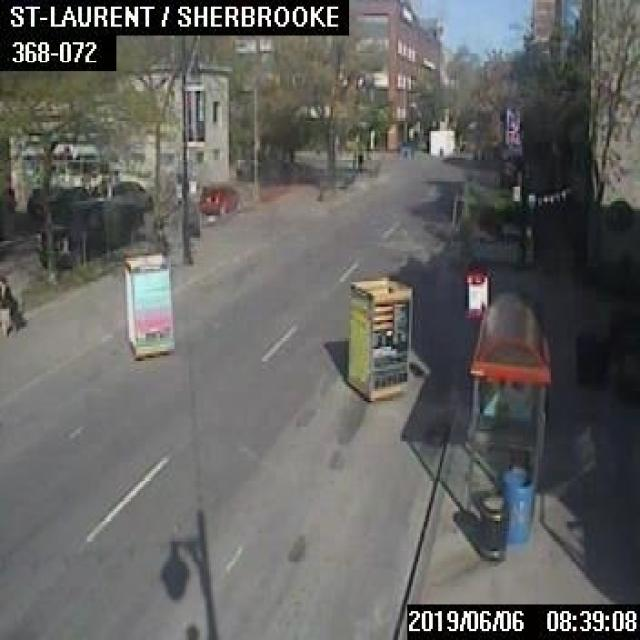pedestrian: (0, 274, 9, 336), (9, 294, 20, 334), (356, 150, 362, 171)
vehicle: (36, 196, 136, 266), (28, 183, 91, 217), (94, 178, 151, 208), (197, 182, 236, 210)
